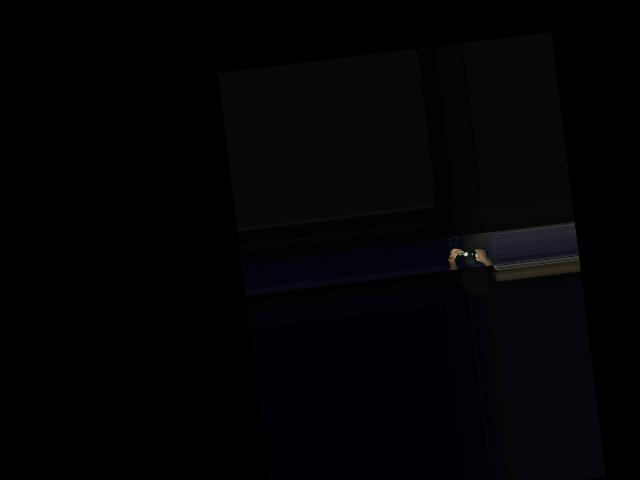beer: (459, 248, 489, 261)
